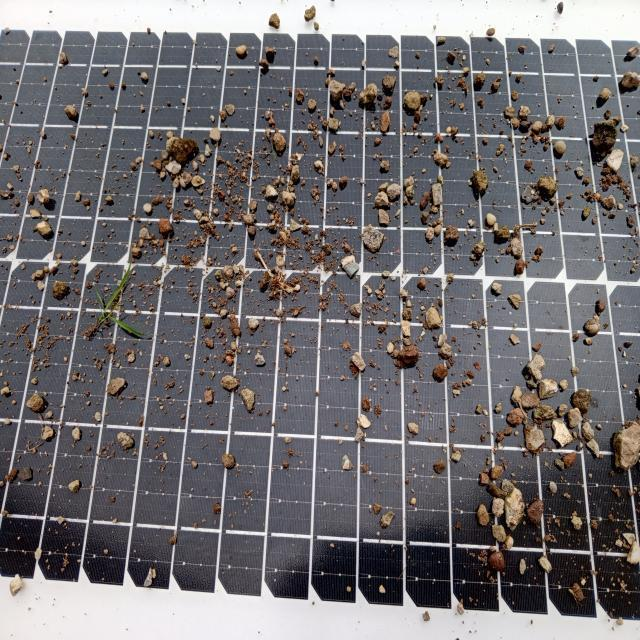Anomaly Solar Panel: (0, 0, 640, 640)
Surface Contaminant: (1, 11, 639, 632)
